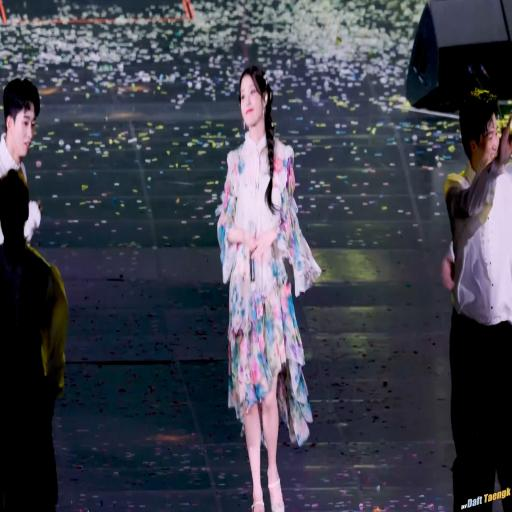IU: (239, 64, 272, 128)
